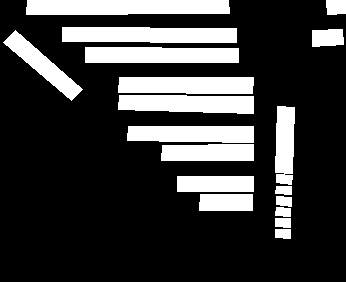parkingspot: (3, 30, 82, 100), (26, 0, 229, 14), (62, 27, 236, 42), (118, 95, 253, 113), (85, 47, 238, 62), (118, 77, 253, 93), (127, 126, 253, 142), (161, 144, 253, 160), (275, 106, 294, 173), (177, 176, 253, 191), (199, 194, 252, 210), (312, 29, 343, 46), (326, 0, 346, 14), (276, 174, 292, 184), (276, 196, 291, 206), (275, 207, 290, 216), (275, 218, 290, 227), (275, 229, 290, 238), (275, 186, 291, 194)
